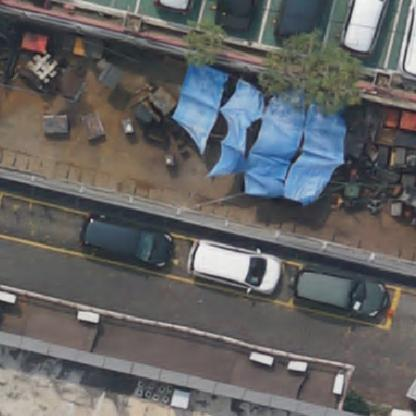car: (79, 212, 181, 272), (294, 268, 390, 323), (191, 245, 286, 295), (343, 1, 379, 58), (274, 0, 314, 45), (213, 0, 257, 36), (401, 1, 415, 85), (155, 0, 194, 13)
